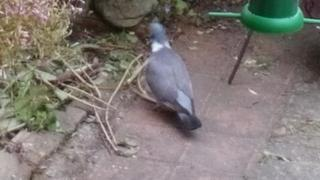wood pigeon: (144, 23, 203, 131)
